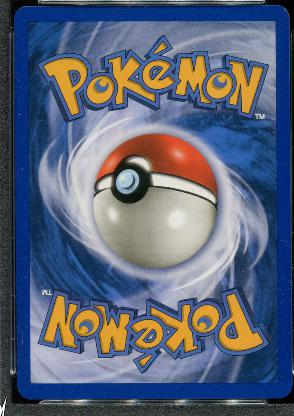Card: (10, 4, 292, 404)
Scratch: (16, 327, 23, 347), (276, 289, 284, 305), (277, 236, 287, 247), (18, 48, 25, 56), (13, 76, 21, 82)
